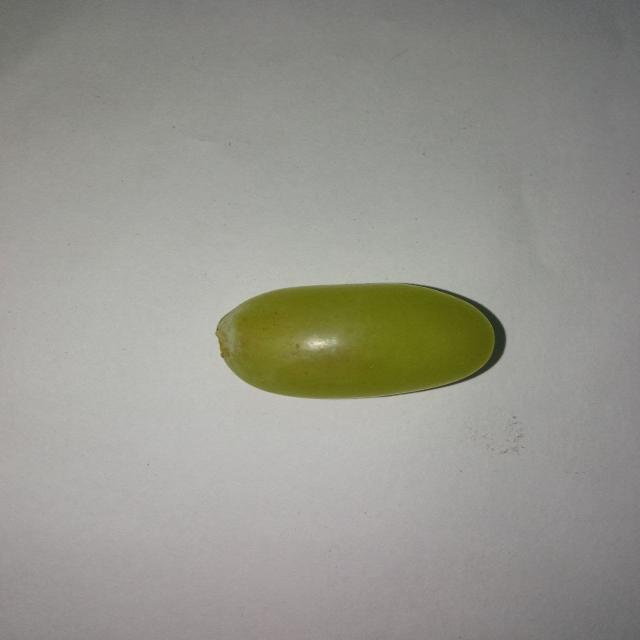fresh_grape: (214, 282, 496, 398)
